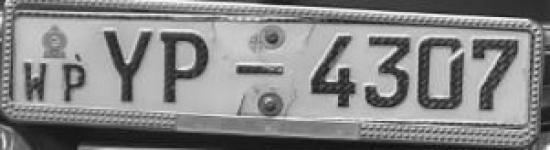-: (232, 58, 290, 82)
0: (416, 32, 468, 115)
3: (363, 32, 414, 111)
4: (297, 28, 358, 111)
7: (468, 34, 521, 112)
P: (158, 27, 210, 109), (54, 60, 92, 103)
W: (17, 59, 52, 105)
Y: (97, 21, 157, 104)
